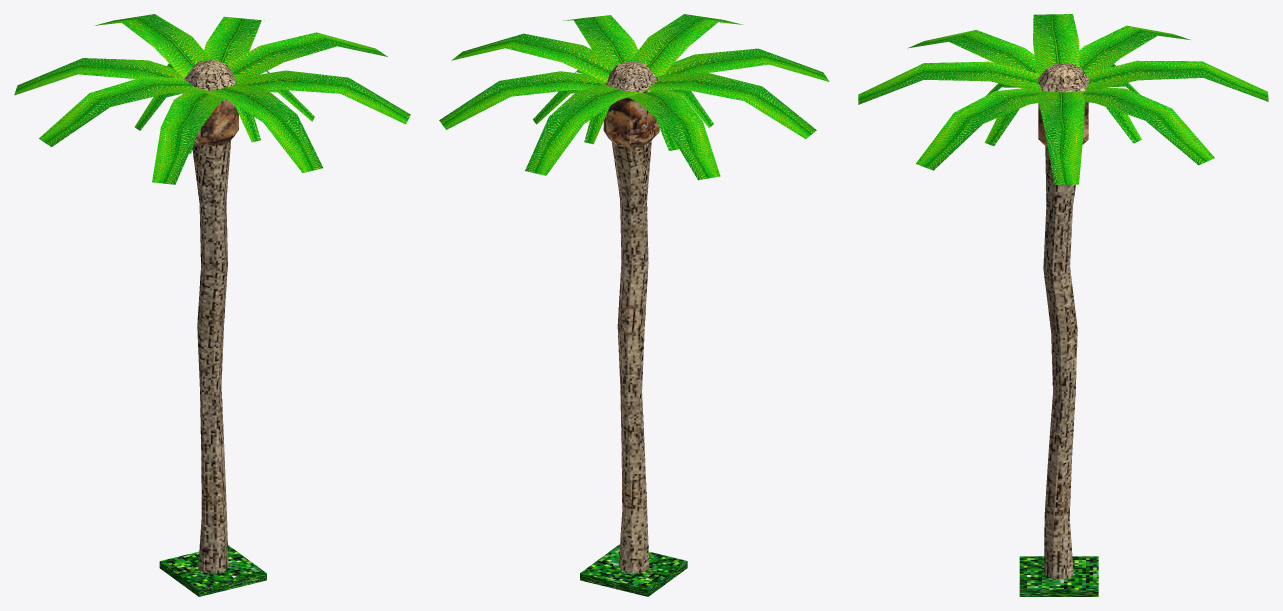
The model's file is Palmera.fbx.
3 views of the same model, side by side, from view 1: azimuth 30°, elevation 25°; view 2: azimuth 150°, elevation 25°; view 3: azimuth 270°, elevation 25° (orthographic).
Visible parts, largest first — view 1: polySurface92; view 2: polySurface92; view 3: polySurface92.
Boxes of the visible parts, <box> form: polySurface92: <box>14,14,410,596</box>; polySurface92: <box>439,14,829,596</box>; polySurface92: <box>858,14,1268,596</box>.
Bounding box in the file's own units: 509 × 720 × 520.
